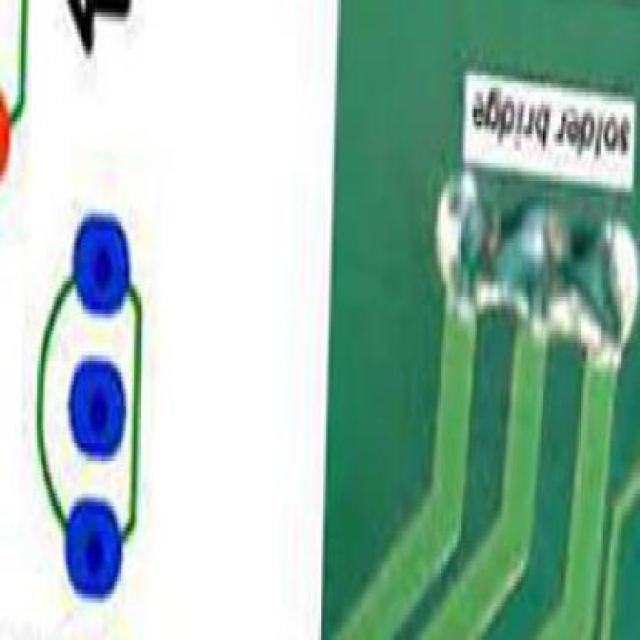Soldering shorted: (431, 192, 631, 377)
